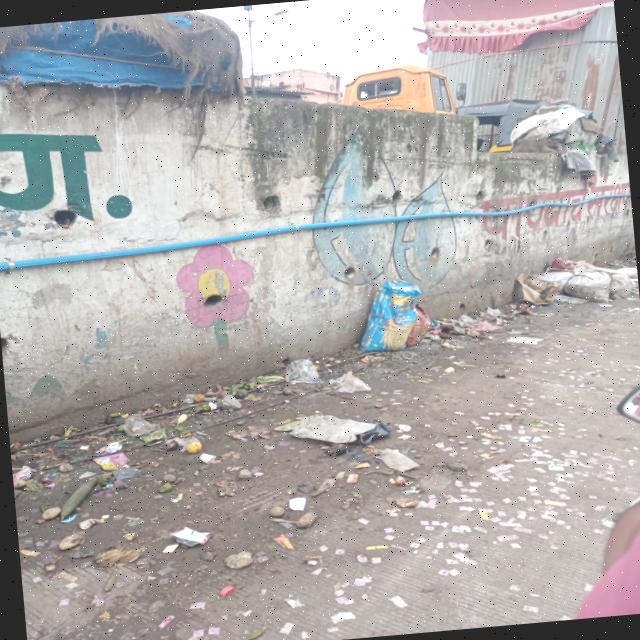garbage: (32, 356, 384, 534), (381, 258, 640, 351)
